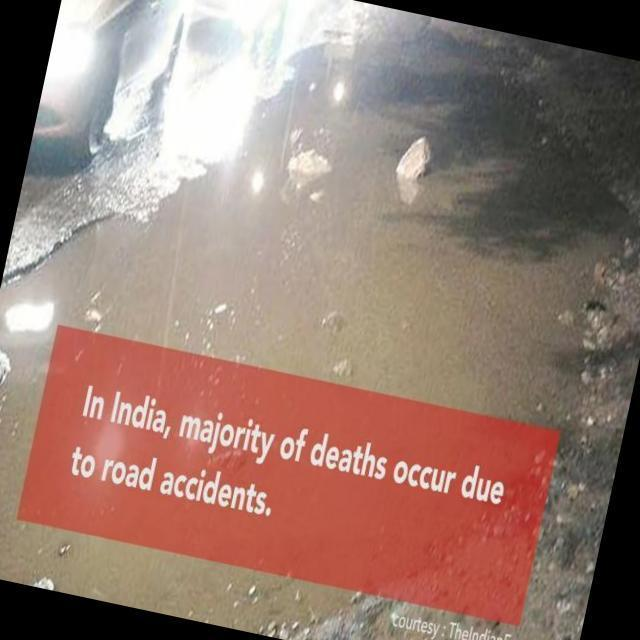Pothole: (55, 39, 628, 407)
